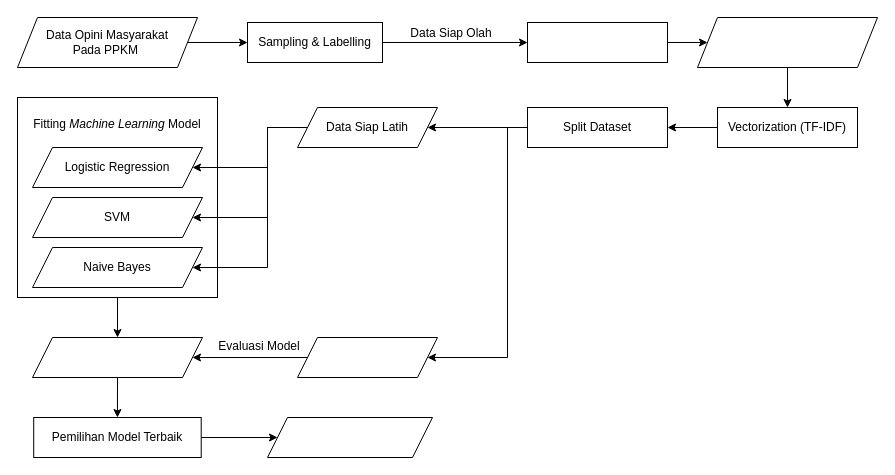
Some shapes in this 895 by 475 pixel diagram are drawn without their labels. The centre of each missing label's shape, as x and y in pixels:
Data Bersih: the point at 787,42
Data Preprocessing: the point at 597,42
Data Siap Uji: the point at 367,357
Hasil Penelitian: the point at 349,437
Model Terlatih: the point at 117,357
